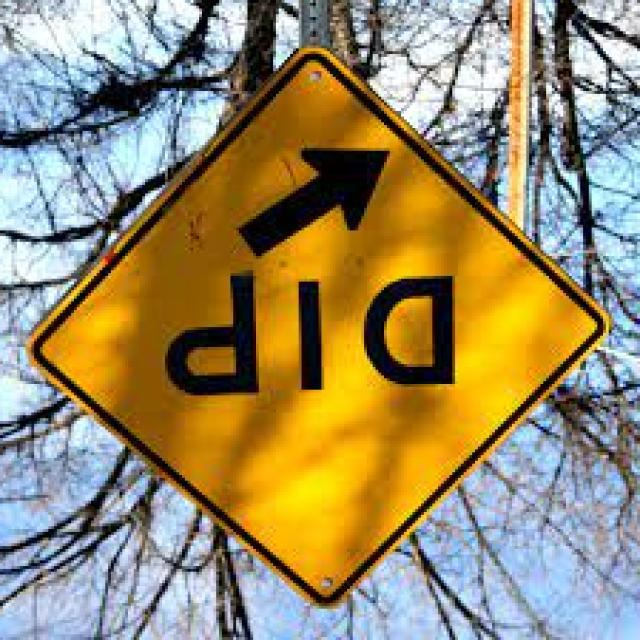Traffic sign: (24, 42, 616, 612)
